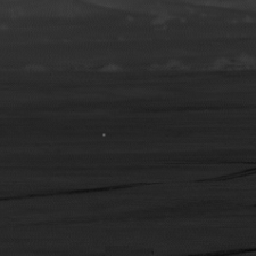Target: (101, 132, 107, 138)
